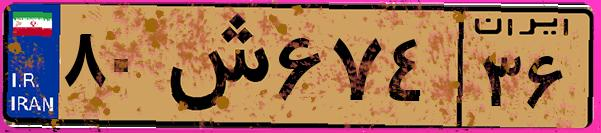0: (110, 28, 158, 98)
3: (475, 38, 525, 113)
4: (385, 28, 445, 110)
6: (270, 28, 330, 110), (525, 38, 570, 115)
7: (330, 28, 385, 110)
8: (57, 26, 110, 100)
ش: (158, 12, 270, 120)
